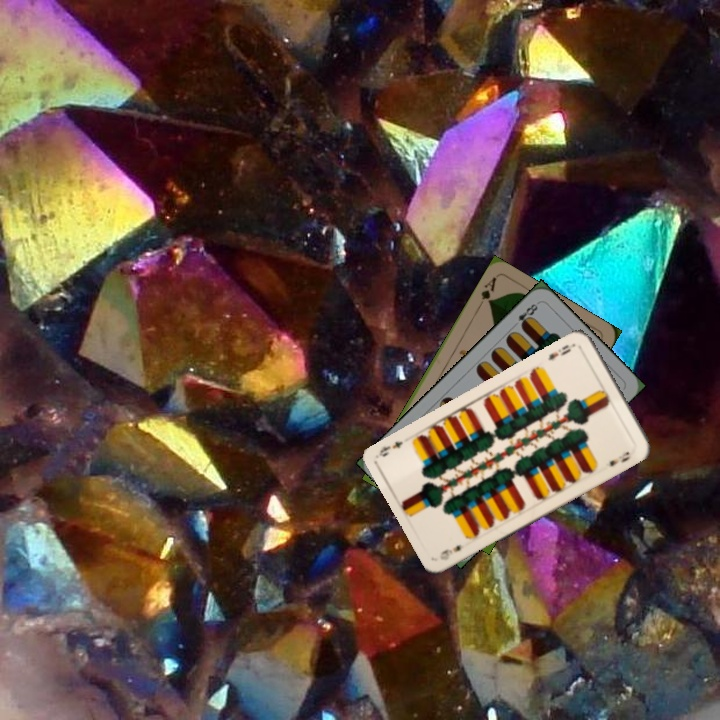E8: (513, 299, 541, 331)
E9: (435, 540, 463, 563), (544, 341, 573, 363)
GA: (474, 273, 499, 310)
